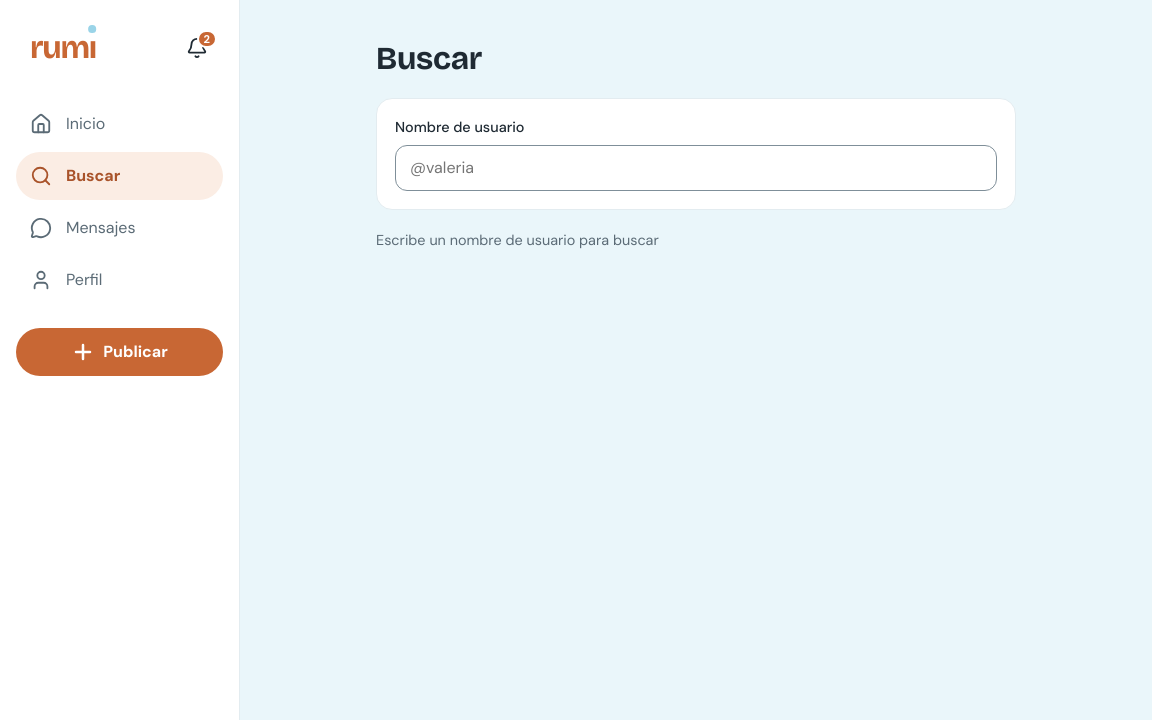
Test: sin espacio al agregar un amigo, avisa
Type "isabella" into the field labelled "Nombre de usuario" at (696, 168), box [395,145,997,191]
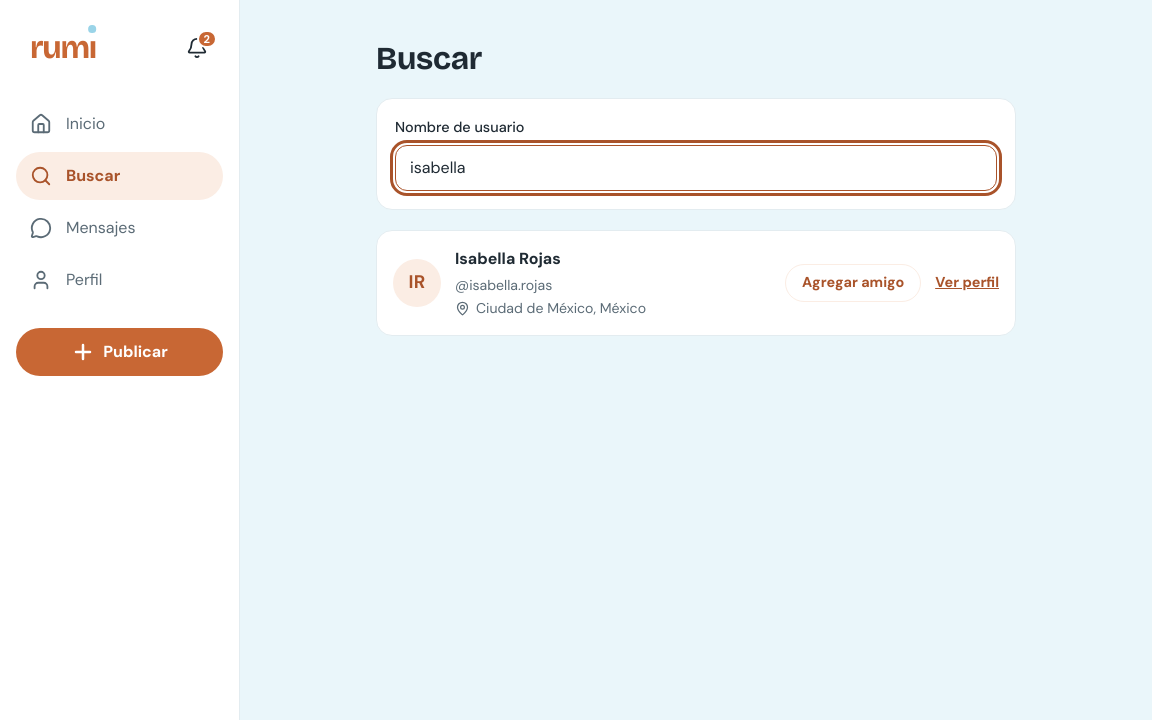
Click the button "Agregar amigo" at (853, 283), box [785,264,921,302]
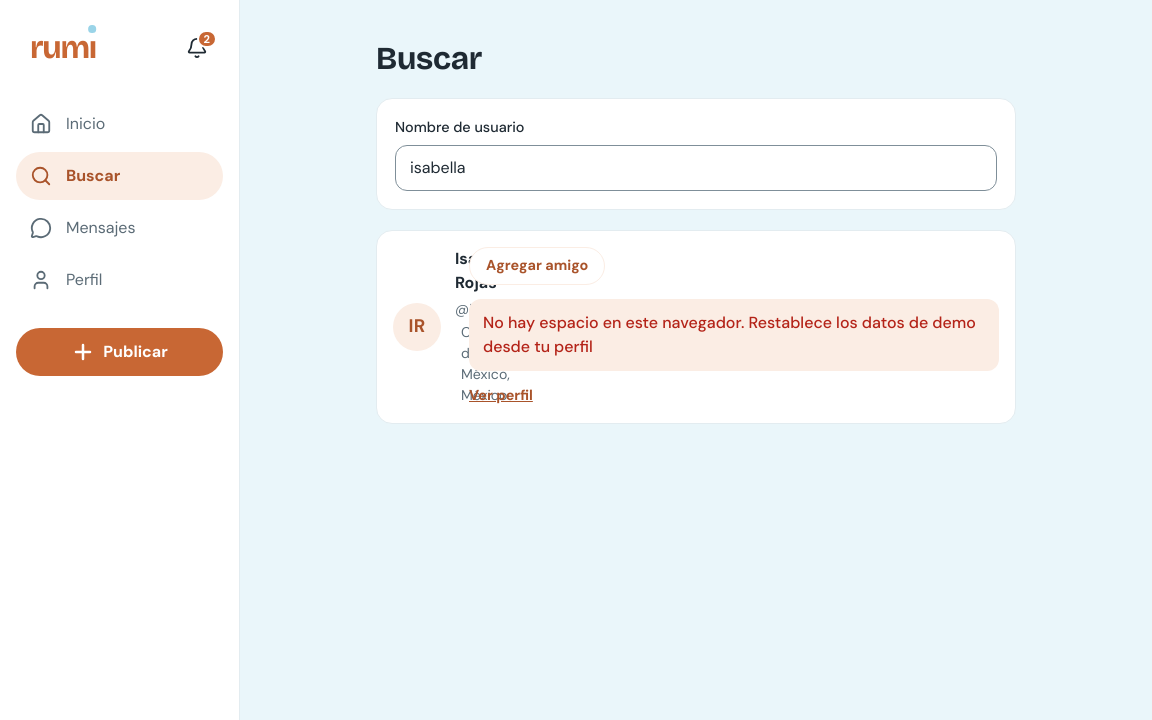
Check: the message reads "No hay espacio en este navegador. Restablece los datos de demo desde tu perfil", box [483,312,976,357]
